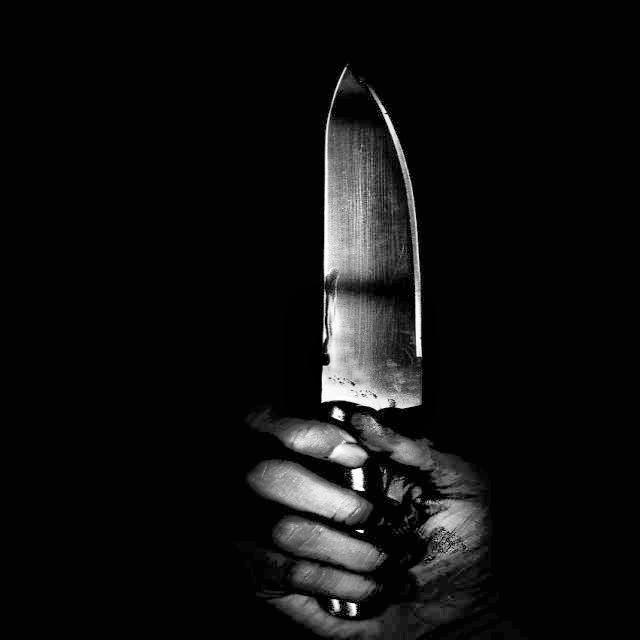knife: (284, 62, 442, 622)
